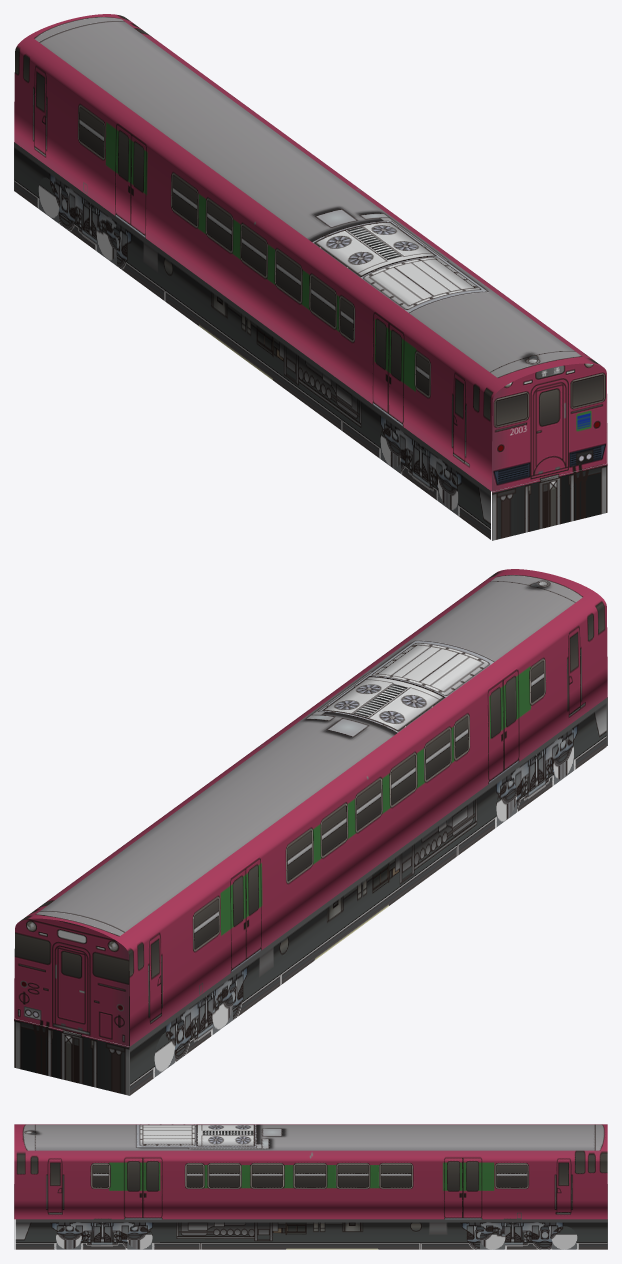
Rendered from car1.glb.
3 renders of one model, top to bottom at view 1: azimuth 30°, elevation 25°; view 2: azimuth 150°, elevation 25°; view 3: azimuth 270°, elevation 25°, orthographic. The views are drawn at different scales.
Parts seen in each view (by area): view 1: jr-west-kiha41-car1; view 2: jr-west-kiha41-car1; view 3: jr-west-kiha41-car1.
Boxes of the visible parts, x1,y1,x2,y2 form: jr-west-kiha41-car1: (14, 14, 607, 540); jr-west-kiha41-car1: (14, 569, 607, 1095); jr-west-kiha41-car1: (14, 1124, 607, 1249).
Bounding box in the file's own units: 2.8 × 3.65 × 20.03.
Materials: 9 (8 with a texture image).
